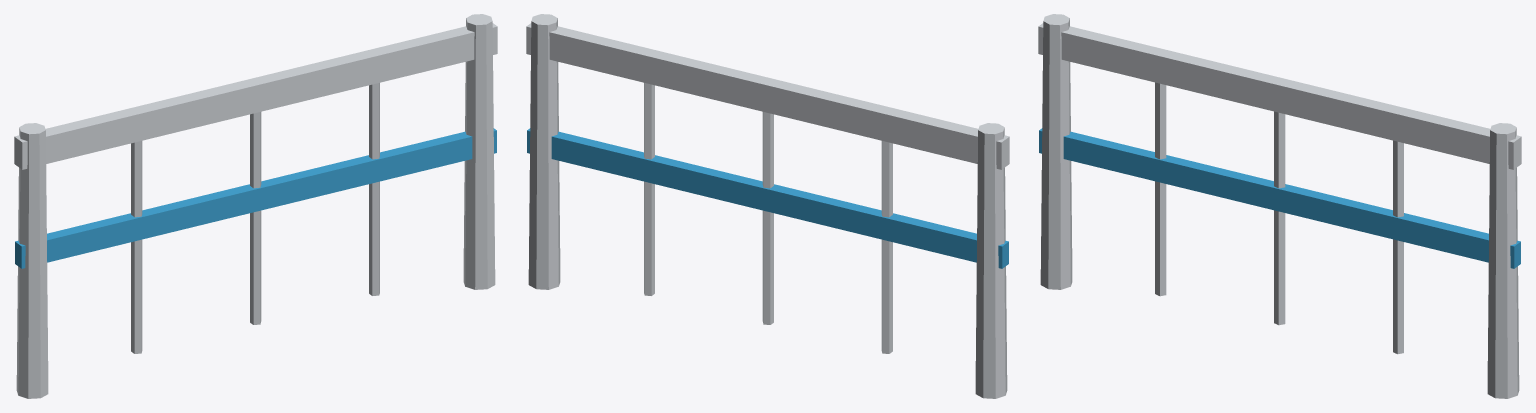
File: bus-station-and-city-transit-guard-rail-section-c39141c3__34218.glb
3 views of the same model, side by side, from view 1: azimuth 30°, elevation 25°; view 2: azimuth 150°, elevation 25°; view 3: azimuth 330°, elevation 25° (orthographic).
Parts seen in each view (by area): view 1: guard-rail-section-steel, guard-rail-section-azure; view 2: guard-rail-section-steel, guard-rail-section-azure; view 3: guard-rail-section-steel, guard-rail-section-azure.
Boxes of the visible parts, x1,y1,x2,y2 form: guard-rail-section-steel: (14, 14, 497, 398); guard-rail-section-azure: (15, 128, 496, 268); guard-rail-section-steel: (526, 14, 1009, 398); guard-rail-section-azure: (527, 128, 1008, 268); guard-rail-section-steel: (1038, 14, 1521, 398); guard-rail-section-azure: (1039, 128, 1520, 268).
Size of the model in its own units: 2 by 1.06 by 0.1199.
